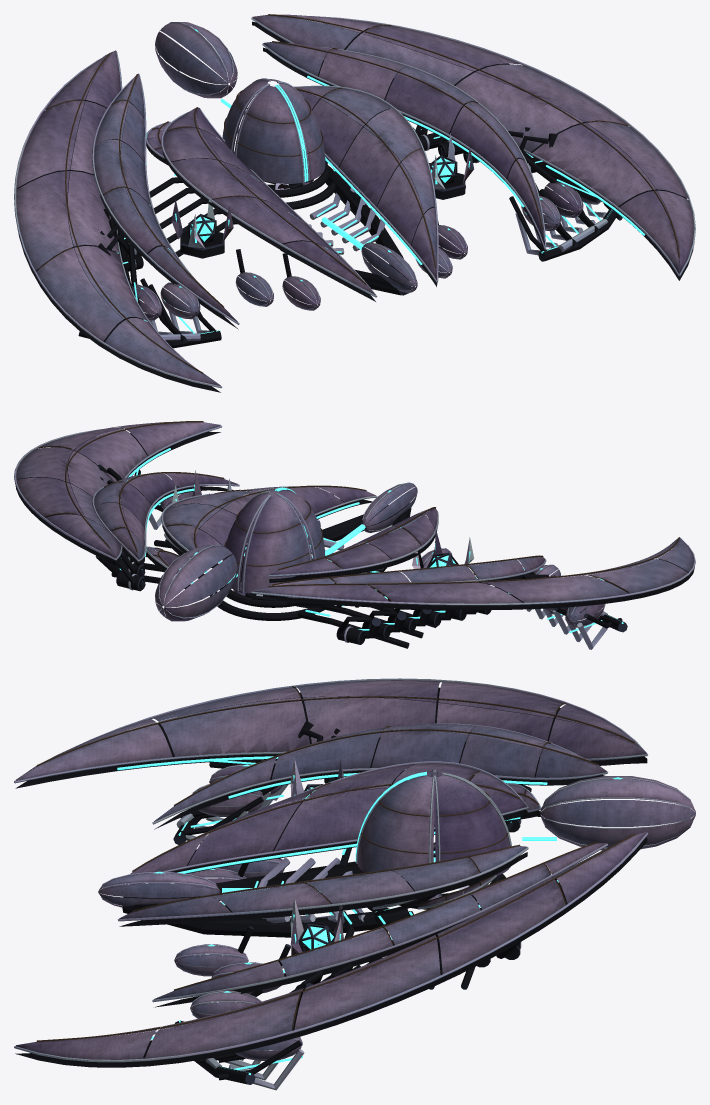
Rendered from the-veil-v3-study.glb.
3 renders of one model, top to bottom at view 1: azimuth 30°, elevation 25°; view 2: azimuth 150°, elevation 25°; view 3: azimuth 270°, elevation 25°, orthographic. The views are drawn at different scales.
Visible parts, largest first — view 1: veil_hull, veil_heart_shutter_3, veil_pod_left, veil_heart_shutter_0, veil_pod_right, veil_heart_shutter_2; view 2: veil_hull, veil_heart_shutter_2, veil_heart_shutter_1, veil_heart_shutter_3, veil_pod_left; view 3: veil_hull, veil_heart_shutter_0, veil_heart_shutter_1, veil_pod_right.
Boxes of the visible parts, left/top/right/bottom form: veil_hull: left=14, top=14, right=695, bottom=392; veil_heart_shutter_3: left=234, top=84, right=306, bottom=183; veil_pod_left: left=171, top=191, right=233, bottom=258; veil_heart_shutter_0: left=277, top=81, right=325, bottom=181; veil_pod_right: left=416, top=133, right=473, bottom=199; veil_heart_shutter_2: left=222, top=78, right=270, bottom=152; veil_hull: left=14, top=421, right=695, bottom=649; veil_heart_shutter_2: left=241, top=493, right=312, bottom=593; veil_heart_shutter_1: left=222, top=491, right=269, bottom=591; veil_heart_shutter_3: left=276, top=488, right=325, bottom=559; veil_pod_left: left=412, top=529, right=474, bottom=568; veil_hull: left=14, top=678, right=695, bottom=1090; veil_heart_shutter_0: left=355, top=773, right=434, bottom=881; veil_heart_shutter_1: left=434, top=773, right=511, bottom=881; veil_pod_right: left=290, top=897, right=344, bottom=955.
Size of the model in its own units: 15.65 by 3.58 by 12.83.
Materials: 5 (1 with a texture image).
